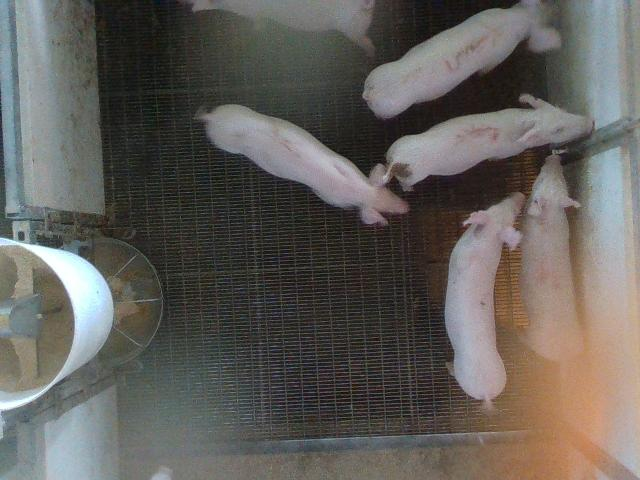pig-3: (362, 0, 560, 118)
pig-4: (519, 155, 584, 361)
pig-5: (382, 94, 594, 191)
